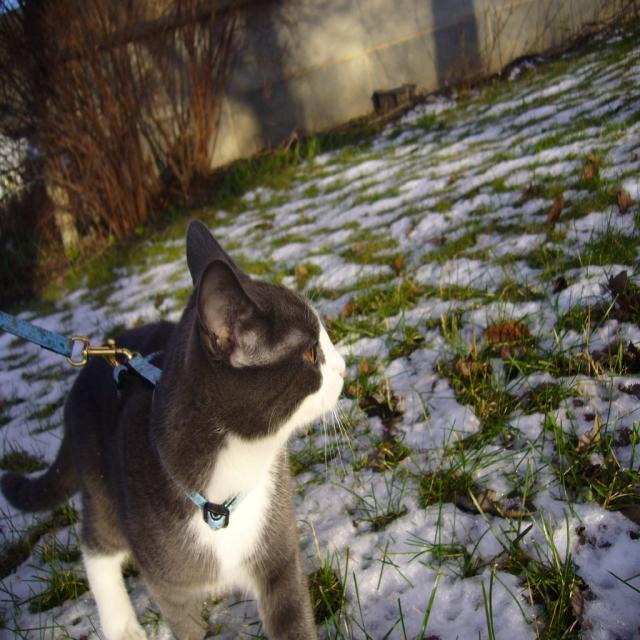Cat: (0, 211, 349, 638)
